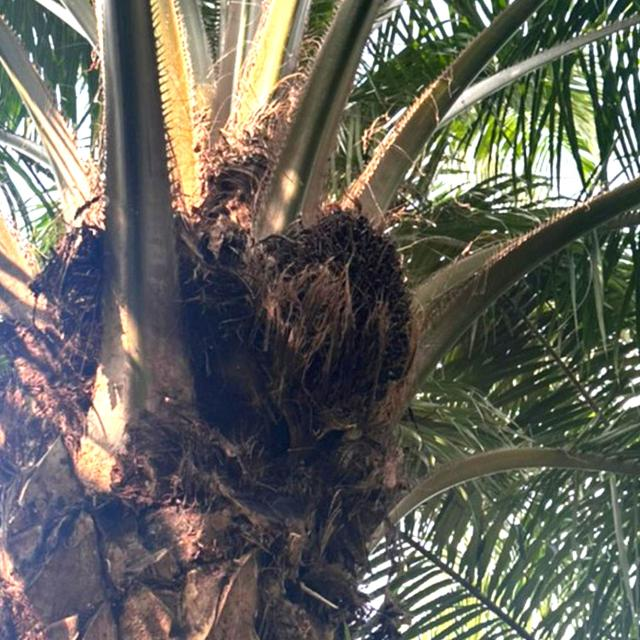almost: (268, 196, 416, 388)
